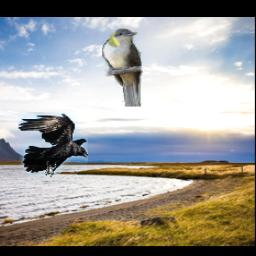Crow: (18, 113, 88, 177)
Cuckoo: (103, 30, 144, 107)
